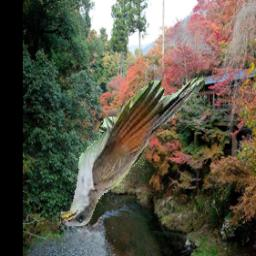Cuckoo: (61, 75, 206, 227)
